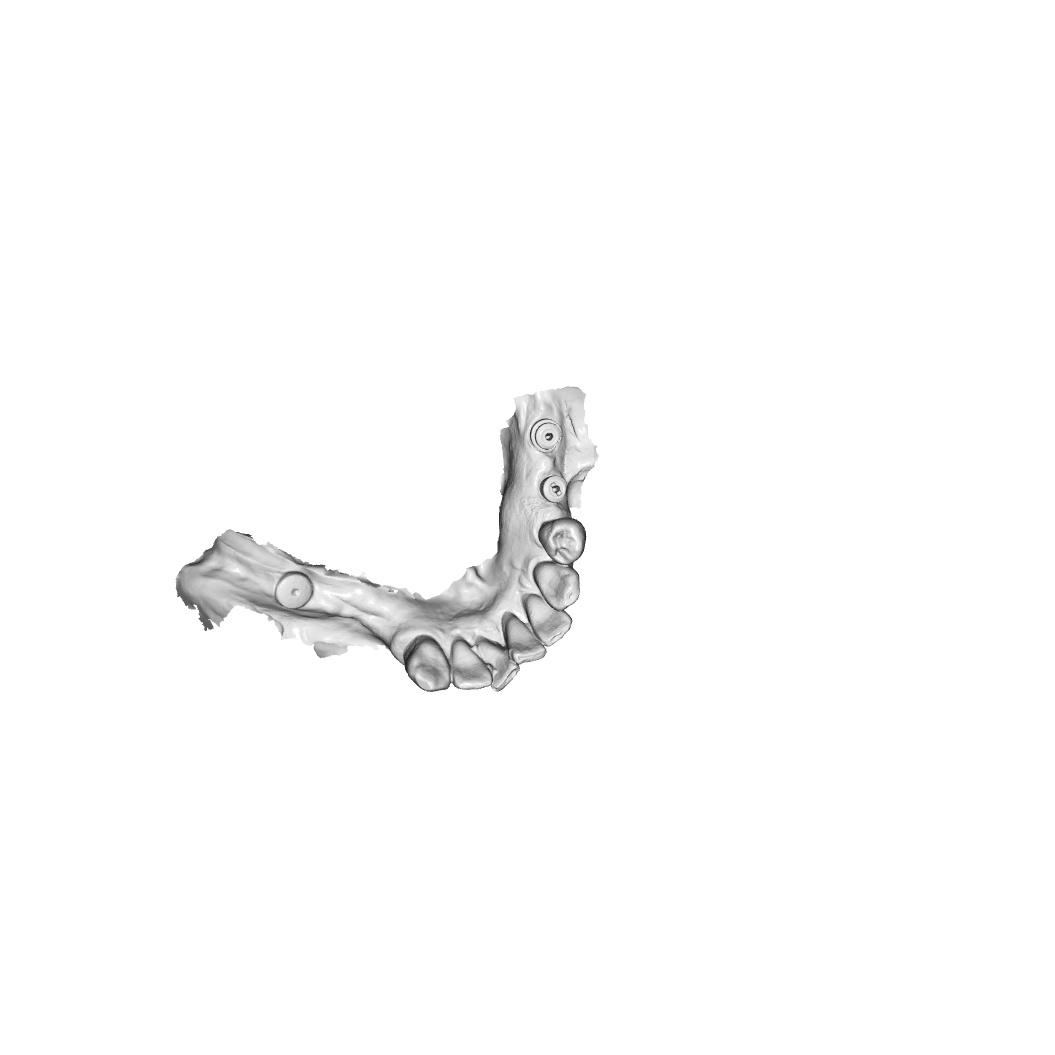canine: (403, 636, 452, 694), (532, 561, 583, 613)
implant: (273, 570, 314, 611), (528, 418, 563, 454)
implant_minus: (539, 474, 570, 504)
incisor: (524, 593, 574, 648), (476, 636, 521, 692), (449, 636, 493, 692), (503, 614, 548, 666)
premolar: (537, 516, 587, 567)
